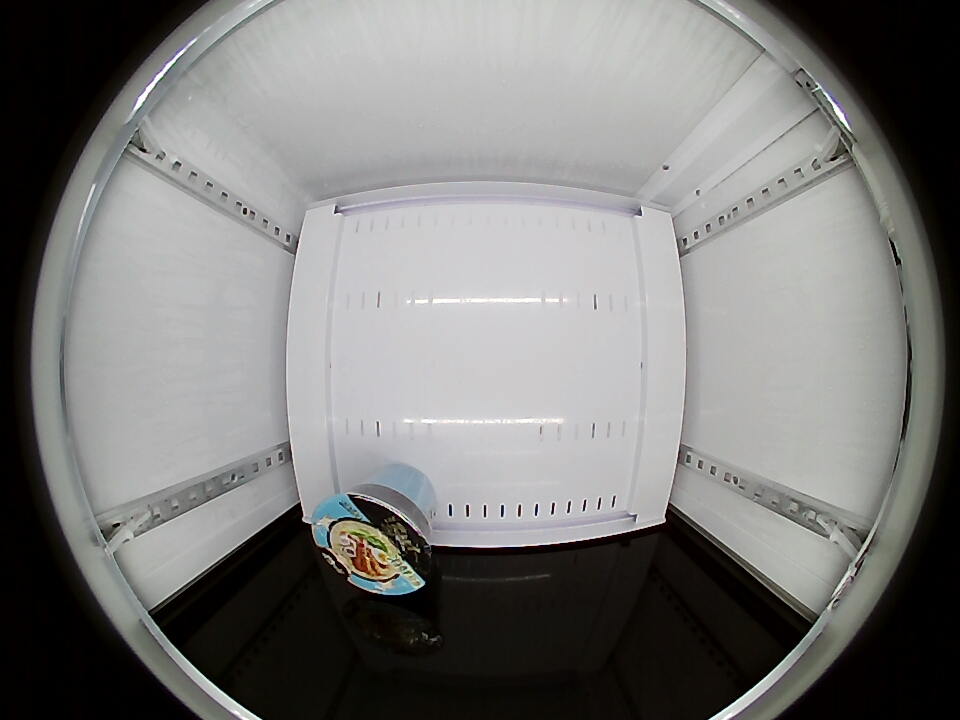tangdaren3: (311, 486, 435, 595)
